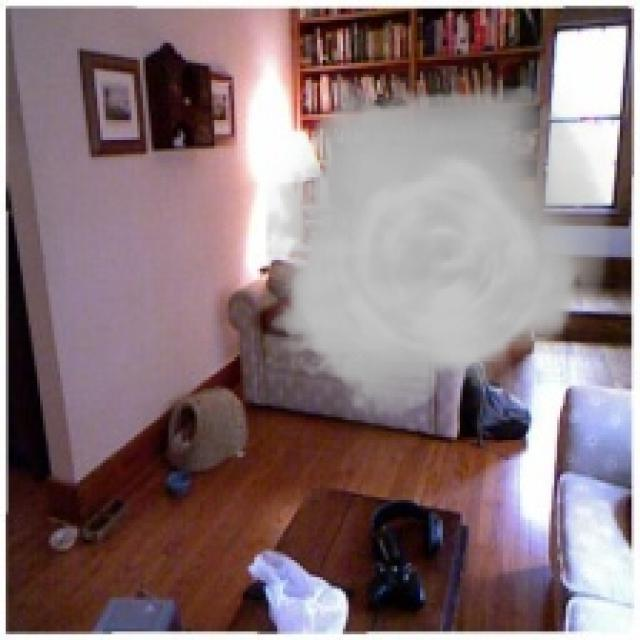Smoke: (266, 66, 612, 428)
